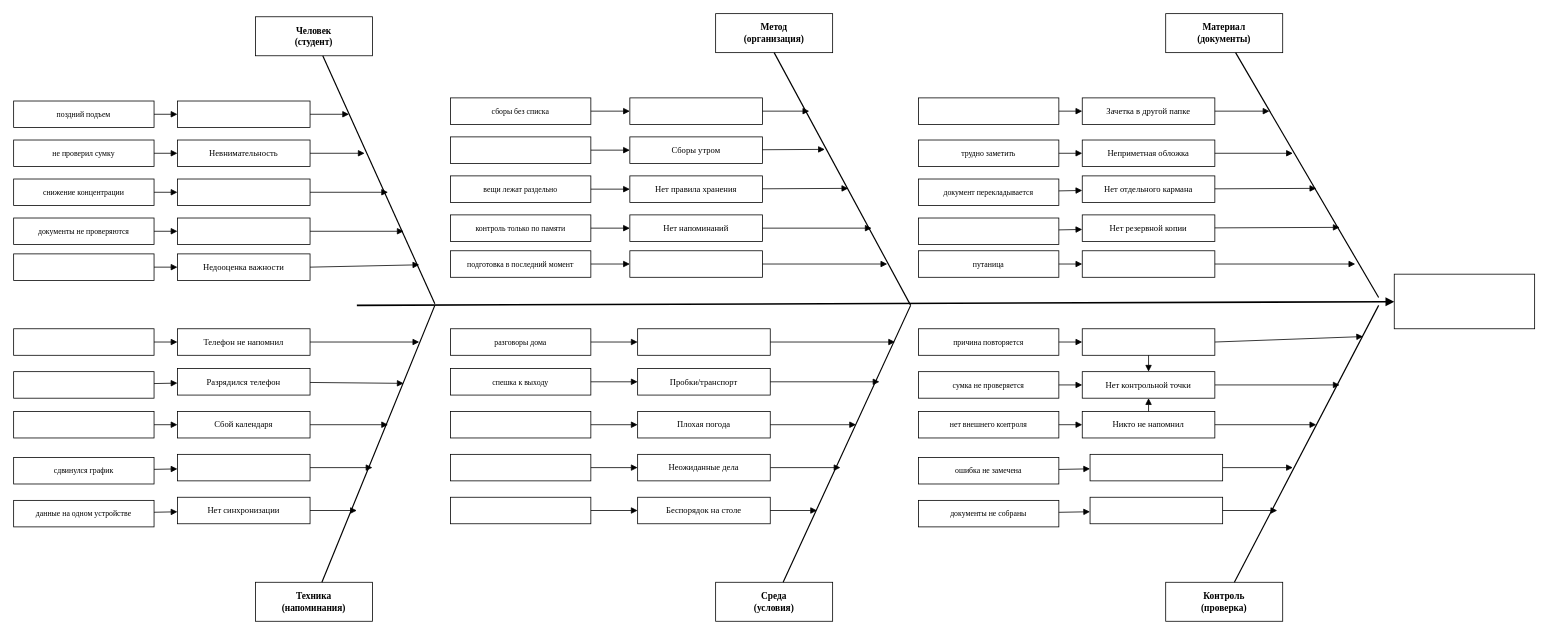
The diagram is 1548 pixels wide and 635 high, and some of its shapes have lost their labels. The centre of each missing label's shape, as x and y in pixels:
"Будильник не сработал" belongs at point 243,467.
"Забытая дома зачетная книжка" belongs at point 1464,301.
"зачетка не в приоритете" belongs at point 83,266.
"зачетка не на виду" belongs at point 520,510.
"Много похожих документов" belongs at point 1148,263.
"Нет анализа прошлых ошибок" belongs at point 1148,341.
"Нет привычки" belongs at point 243,231.
"Нет проверки вечером" belongs at point 1156,510.
"Нет проверки перед выходом" belongs at point 1156,467.
"нет сигнала" belongs at point 83,384.
"Нет чек-листа" belongs at point 695,110.
"нехватка времени" belongs at point 520,149.
"ошибка не выявляется" belongs at point 988,231.
"после прошлой пары" belongs at point 988,110.
"Слабое планирование" belongs at point 695,263.
"смена одежды/сумки" belongs at point 520,424.
"событие не создано" belongs at point 83,424.
"срочный звонок" belongs at point 520,467.
"Торопливость" belongs at point 243,114.
"уведомление отключено" belongs at point 83,341.
"Усталость" belongs at point 243,192.
"Шум и отвлечения" belongs at point 703,341.
